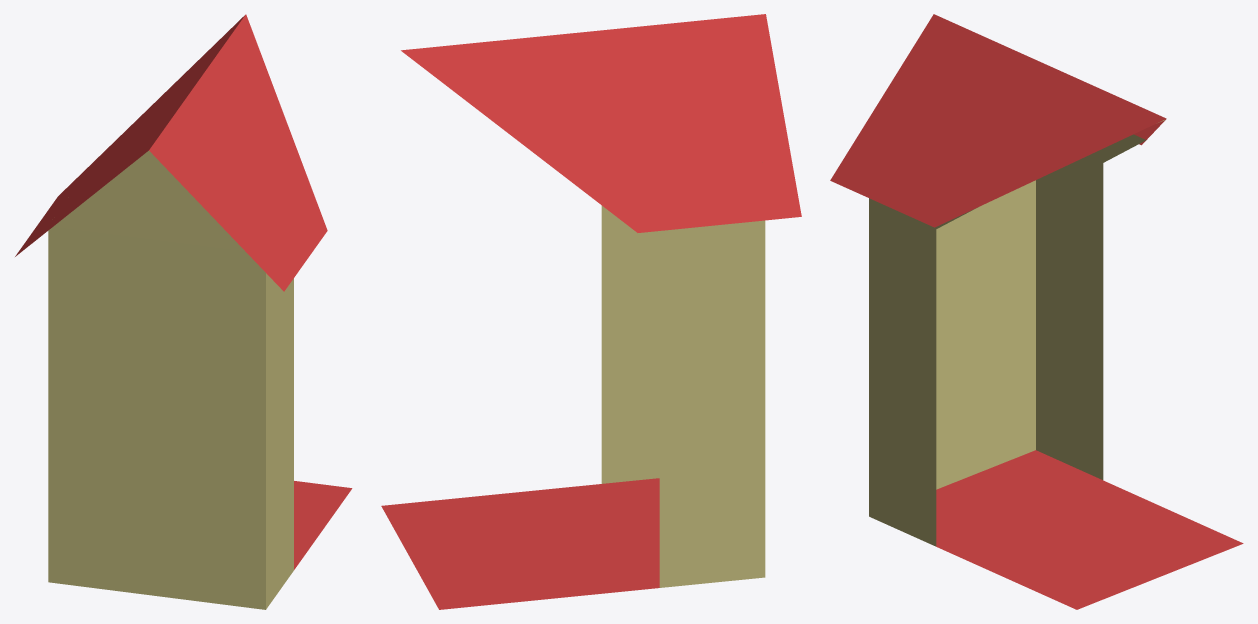
3 renders of one model, left to right at view 1: azimuth 30°, elevation 25°; view 2: azimuth 150°, elevation 25°; view 3: azimuth 270°, elevation 25°, orthographic. The views are drawn at different scales.
Bounding box in the file's own units: 11.39 × 11.3 × 13.88.
